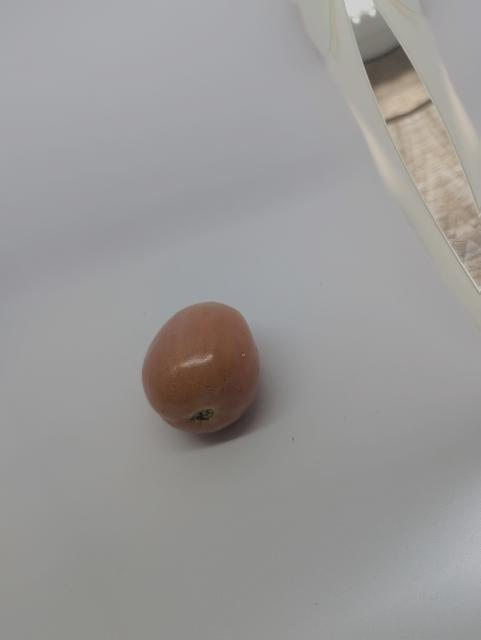turning: (129, 296, 283, 454)
